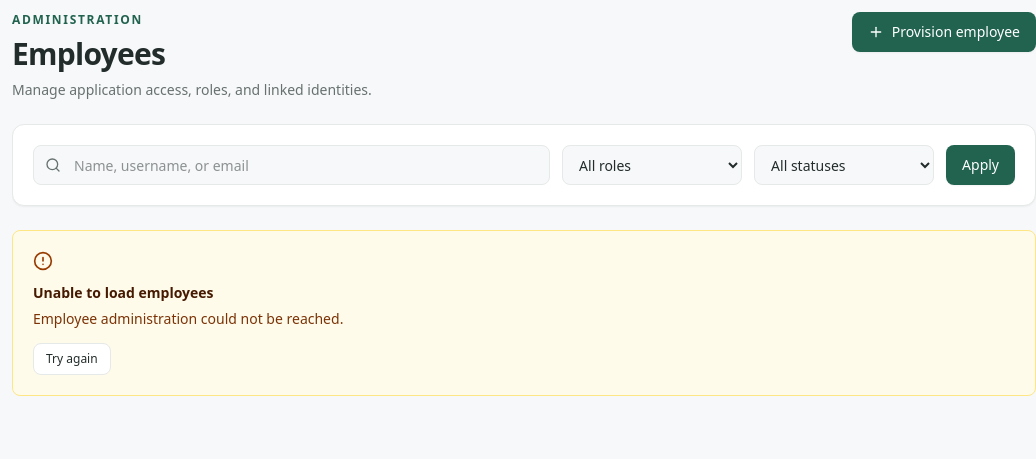
Test case: employee administration › shows the directory retry state
This screenshot has width=1036, height=459.
Expected: the message shows "Unable to load employees", [33,283,214,302]
Click the button "Try again" at (72, 359), box [33,343,111,375]
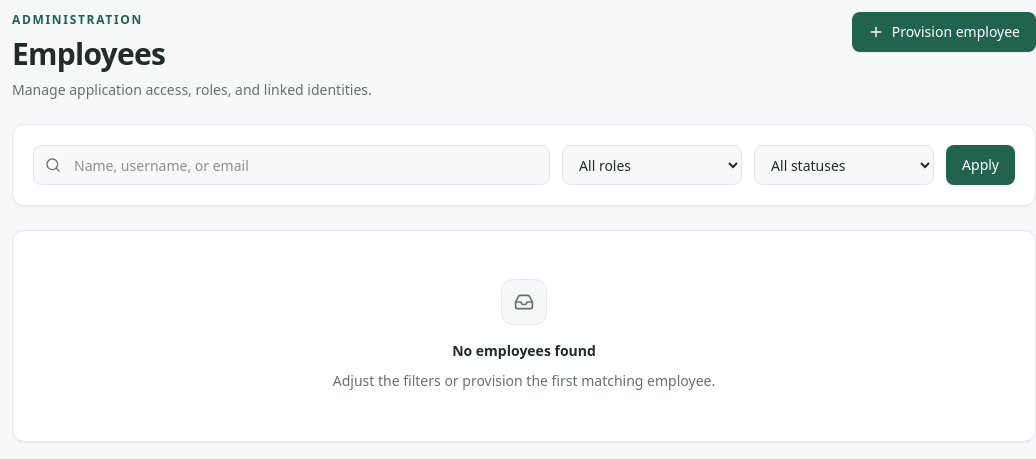
Result: the heading "No employees found" is shown at [452,341,596,361]
